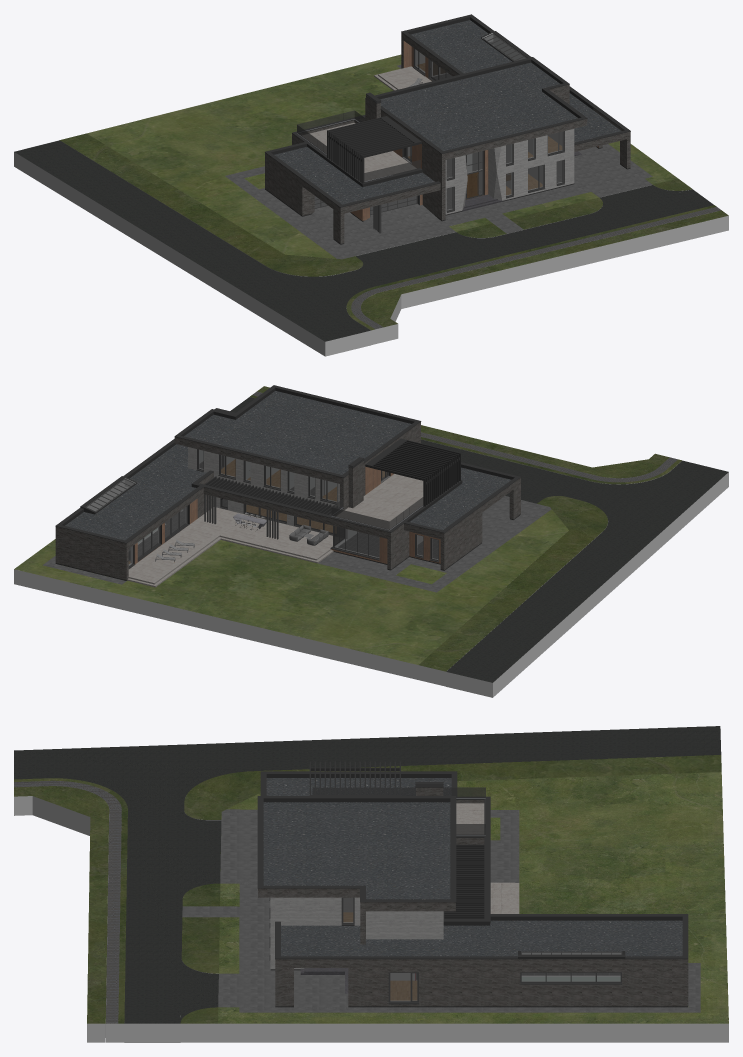
File: modern_house.glb
3 views of the same model, one above another, from view 1: azimuth 30°, elevation 25°; view 2: azimuth 150°, elevation 25°; view 3: azimuth 270°, elevation 25° (orthographic). The views are drawn at different scales.
Parts seen in each view (by area): view 1: object 32, object 21, object 33, object 22, RAL 9011 _RAL 9011 _0, object 7, object 39, object 44, object 46, object 43, object 8, object 1 (+3 smaller); view 2: object 21, object 33, object 32, object 39, RAL 9011 _RAL 9011 _0, object 44, object 22, object 1, object 43, object 7, object 46, object 6 (+5 smaller); view 3: object 21, object 32, object 33, object 22, object 44, object 7, object 39, RAL 9011 _RAL 9011 _0, object 46, object 43, object 8, object 1 (+2 smaller).
Boxes of the visible parts, bbox=[...] form: object 32: bbox=[14, 140, 713, 341]; object 21: bbox=[87, 54, 677, 258]; object 33: bbox=[274, 20, 621, 204]; object 22: bbox=[60, 133, 728, 330]; RAL 9011 _RAL 9011 _0: bbox=[14, 143, 728, 356]; object 7: bbox=[225, 64, 652, 259]; object 39: bbox=[265, 14, 630, 244]; object 44: bbox=[265, 32, 630, 243]; object 46: bbox=[445, 129, 574, 214]; object 43: bbox=[297, 34, 562, 210]; object 8: bbox=[351, 207, 721, 329]; object 1: bbox=[302, 66, 431, 180]; object 21: bbox=[14, 509, 568, 664]; object 33: bbox=[65, 391, 511, 540]; object 32: bbox=[230, 397, 728, 682]; object 39: bbox=[55, 385, 520, 580]; RAL 9011 _RAL 9011 _0: bbox=[14, 397, 728, 697]; object 44: bbox=[55, 422, 520, 580]; object 22: bbox=[250, 386, 681, 671]; object 1: bbox=[127, 474, 423, 587]; object 43: bbox=[86, 449, 438, 565]; object 7: bbox=[43, 496, 551, 592]; object 46: bbox=[188, 447, 339, 535]; object 6: bbox=[86, 449, 438, 566]; object 21: bbox=[218, 772, 728, 1023]; object 32: bbox=[14, 726, 721, 1023]; object 33: bbox=[263, 778, 682, 956]; object 22: bbox=[14, 755, 721, 1023]; object 44: bbox=[258, 787, 688, 1006]; object 7: bbox=[182, 809, 700, 1012]; object 39: bbox=[257, 761, 688, 1007]; RAL 9011 _RAL 9011 _0: bbox=[14, 781, 728, 1042]; object 46: bbox=[270, 897, 443, 969]; object 43: bbox=[312, 787, 621, 1001]; object 8: bbox=[14, 780, 121, 1023]; object 1: bbox=[456, 803, 519, 913].
Size of the model in its own units: 56.44 by 10.47 by 57.27.
Materials: 46 (19 with a texture image).
